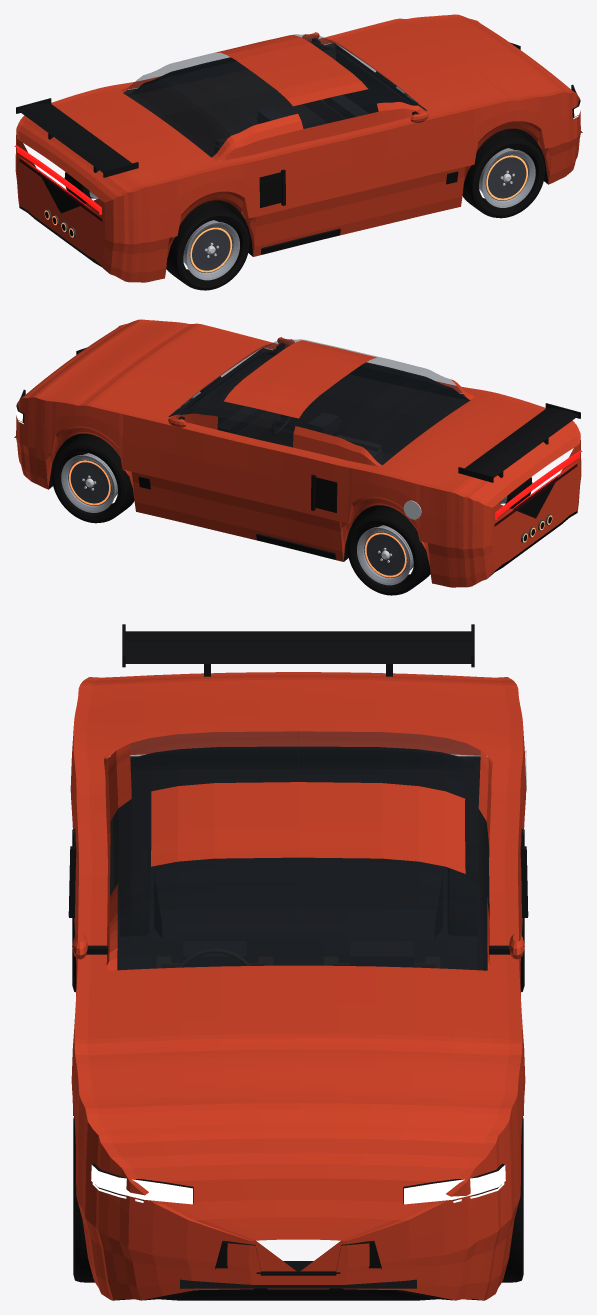
Rendered from car.glb.
The picture shows the model from 3 angles, top to bottom: view 1: azimuth 30°, elevation 25°; view 2: azimuth 150°, elevation 25°; view 3: azimuth 270°, elevation 25°; orthographic projection. The views are drawn at different scales.
Parts seen in each view (by area): view 1: body_hull, body_canopy, body_deck, body_cockpit, wheel_rr, wheel_fr, detail_wing, detail_sides, detail_rear_end, detail_interior; view 2: body_hull, body_canopy, body_deck, body_cockpit, wheel_rl, wheel_fl, detail_wing, detail_interior, detail_sides, detail_rear_end; view 3: body_deck, body_canopy, body_hull, body_cockpit, detail_wing, detail_interior, detail_headlights, wheel_rr, wheel_rl, detail_front_end, detail_sides, wheel_fl (+1 smaller).
Boxes of the visible parts, <box> form: body_hull: <box>15,14,580,282</box>; body_canopy: <box>120,34,429,161</box>; body_deck: <box>22,19,569,198</box>; body_cockpit: <box>123,43,426,157</box>; wheel_rr: <box>166,200,249,290</box>; wheel_fr: <box>462,129,545,218</box>; detail_wing: <box>16,98,138,177</box>; detail_sides: <box>259,32,458,254</box>; detail_rear_end: <box>14,145,102,238</box>; detail_interior: <box>214,95,368,154</box>; body_hull: <box>16,319,581,587</box>; body_canopy: <box>167,339,476,466</box>; body_deck: <box>27,324,574,503</box>; body_cockpit: <box>168,348,470,464</box>; wheel_rl: <box>347,505,430,595</box>; wheel_fl: <box>51,434,134,523</box>; detail_wing: <box>458,403,580,482</box>; detail_interior: <box>217,406,382,463</box>; detail_sides: <box>138,337,421,559</box>; detail_rear_end: <box>494,450,582,543</box>; body_deck: <box>103,672,493,1240</box>; body_canopy: <box>103,731,493,970</box>; body_hull: <box>70,677,526,1300</box>; body_cockpit: <box>110,756,488,970</box>; detail_wing: <box>122,624,474,676</box>; detail_interior: <box>156,938,440,968</box>; detail_headlights: <box>91,1163,505,1204</box>; wheel_rr: <box>72,829,149,992</box>; wheel_rl: <box>447,829,524,992</box>; detail_front_end: <box>180,1241,416,1288</box>; detail_sides: <box>68,750,528,959</box>; wheel_fl: <box>502,1116,523,1282</box>.
Size of the model in its own units: 4534 by 1312 by 1816.
